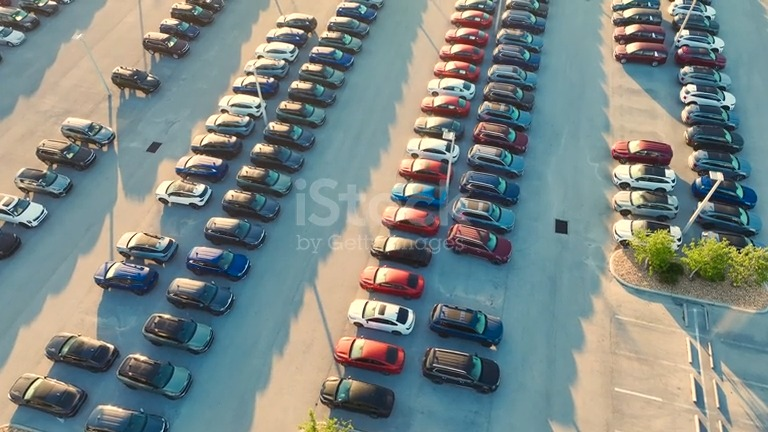car: (432, 300, 512, 349), (425, 344, 501, 390), (7, 379, 83, 420), (116, 355, 189, 397), (320, 374, 393, 415), (143, 315, 213, 355), (448, 225, 514, 267), (337, 334, 406, 373), (167, 276, 233, 312), (350, 302, 417, 337), (47, 334, 113, 368), (615, 219, 683, 252), (451, 193, 512, 229), (92, 263, 155, 297), (362, 263, 425, 297), (686, 172, 750, 205), (456, 162, 515, 197), (186, 250, 248, 283), (612, 191, 678, 222), (89, 405, 165, 431), (372, 230, 432, 262), (207, 214, 265, 247), (470, 142, 524, 176), (37, 139, 95, 170), (224, 191, 280, 223), (683, 147, 744, 176), (614, 163, 676, 191), (383, 205, 441, 234), (118, 228, 174, 258), (680, 124, 740, 152), (62, 117, 116, 148), (15, 168, 71, 197), (239, 165, 293, 195), (706, 204, 756, 236), (680, 102, 737, 130), (470, 117, 524, 146), (0, 194, 48, 226), (158, 181, 212, 209), (476, 97, 527, 126), (253, 143, 304, 172), (398, 154, 452, 181), (678, 83, 734, 109), (263, 116, 313, 145), (481, 78, 532, 106), (113, 67, 162, 96), (614, 57, 669, 82), (676, 45, 729, 70), (489, 58, 537, 85), (277, 91, 324, 118), (288, 73, 335, 100), (142, 31, 189, 58), (677, 63, 729, 87), (493, 40, 540, 66), (408, 136, 458, 160), (192, 130, 240, 155), (175, 157, 221, 183), (219, 91, 266, 116), (421, 96, 470, 119), (300, 56, 345, 81), (614, 38, 667, 59), (412, 116, 462, 138), (500, 21, 544, 46), (311, 40, 355, 65), (206, 113, 253, 136), (230, 67, 279, 89), (427, 74, 473, 96), (170, 1, 214, 24), (674, 13, 721, 34), (614, 21, 665, 40), (434, 56, 479, 77), (158, 19, 199, 42), (320, 25, 362, 47), (440, 39, 484, 59), (331, 10, 371, 32), (259, 36, 300, 57), (246, 51, 289, 71), (270, 21, 310, 41), (448, 21, 490, 40), (615, 7, 664, 23), (672, 0, 718, 17), (0, 10, 32, 34), (13, 0, 51, 19), (180, 0, 218, 19), (453, 7, 494, 24), (340, 0, 380, 17), (688, 200, 710, 224)
